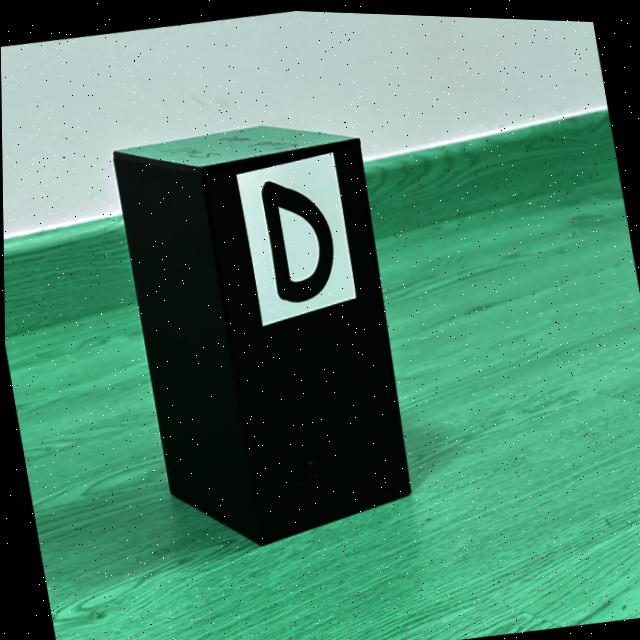D: (261, 179, 333, 300)
